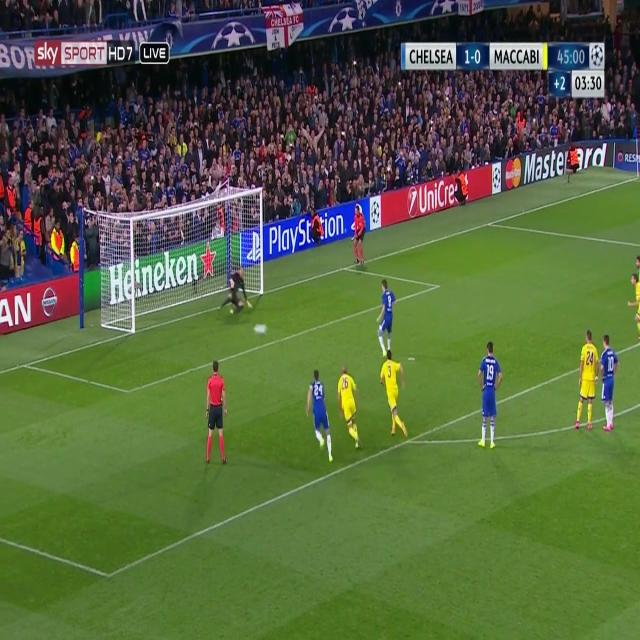Ball: (249, 321, 267, 337)
Goalkeeper: (216, 266, 253, 320)
Player: (303, 367, 335, 466), (476, 340, 504, 452), (574, 329, 601, 434), (380, 348, 409, 440), (336, 367, 364, 452), (599, 334, 619, 436), (376, 279, 398, 361), (627, 273, 640, 338)
Referee: (202, 360, 230, 470), (351, 205, 366, 269)
